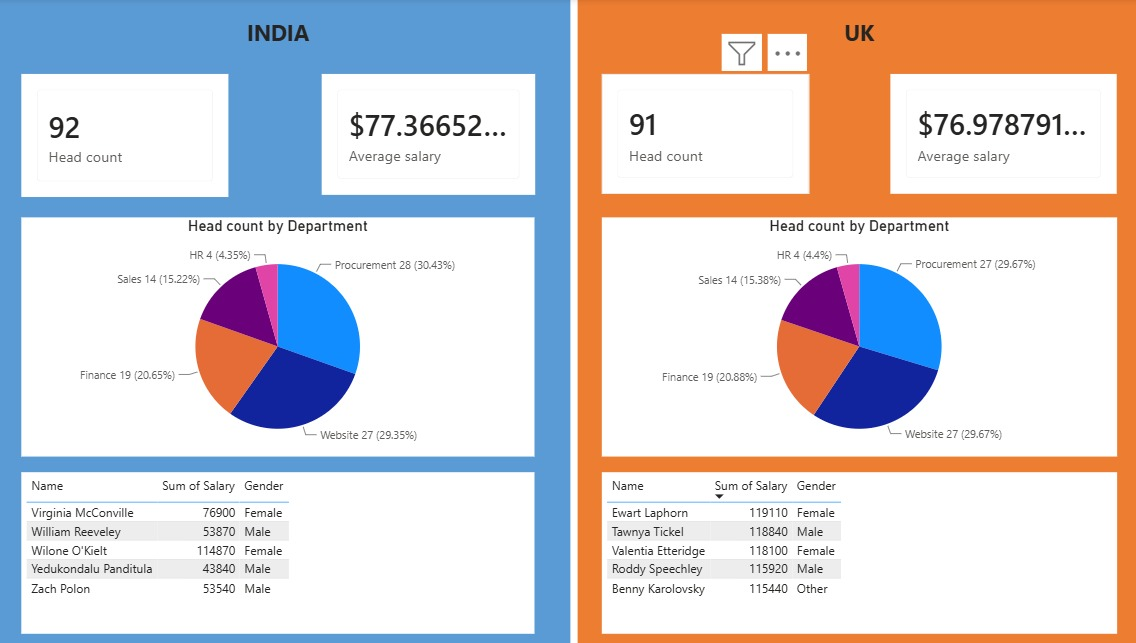

The dashboard page shown, as its layout file describes it:
{"tool":"powerbi","page":{"name":"Q10","canvas":[1280,720],"ordinal":9},"visuals":[{"type":"cardVisual","fields":{"Data":["Sheet1.Head count"]},"box":[28.7,83.6,229.3,136.1],"z":0},{"type":"cardVisual","fields":{"Data":["Sheet1.Head count"]},"box":[670.9,84.1,229.9,132.7],"z":1000},{"type":"cardVisual","fields":{"Data":["Sheet1.Average salary"]},"box":[360.6,83.6,236.4,133.7],"z":2000},{"type":"cardVisual","fields":{"Data":["Sheet1.Average salary"]},"box":[990.4,84.1,250.4,132.7],"z":3000},{"type":"pieChart","fields":{"Category":["Sheet1.Department"],"Y":["Sheet1.Head count"]},"box":[28.7,243.6,568.4,265.1],"z":4000},{"type":"pieChart","fields":{"Category":["Sheet1.Department"],"Y":["Sheet1.Head count"]},"box":[671,243.6,570.7,265.1],"z":5000},{"type":"tableEx","fields":{"Values":["Sheet1.Name","Sum(Sheet1.Salary)","Sheet1.Gender"]},"box":[28.7,525.4,568.4,179.1],"z":6000},{"type":"tableEx","fields":{"Values":["Sheet1.Name","Sum(Sheet1.Salary)","Sheet1.Gender"]},"box":[671,525.4,570.7,179.1],"z":7000},{"type":"textbox","box":[28.7,16.7,568.4,43],"z":8000},{"type":"textbox","box":[670.9,16.8,570,43],"z":9000}]}

Visuals, with their boxes in screenshot pixels (x1, y1, x2, y2), scaled from the page's 1280x720 canvas onto the 1136x643 screenshot:
cardVisual - Sheet1.Head count: pyautogui.locateOnScreen(25, 75, 229, 196)
cardVisual - Sheet1.Head count: pyautogui.locateOnScreen(595, 75, 799, 194)
cardVisual - Sheet1.Average salary: pyautogui.locateOnScreen(320, 75, 530, 194)
cardVisual - Sheet1.Average salary: pyautogui.locateOnScreen(879, 75, 1101, 194)
pieChart - Sheet1.Department x Sheet1.Head count: pyautogui.locateOnScreen(25, 218, 530, 454)
pieChart - Sheet1.Department x Sheet1.Head count: pyautogui.locateOnScreen(596, 218, 1102, 454)
tableEx - Sheet1.Name x Sum(Sheet1.Salary): pyautogui.locateOnScreen(25, 469, 530, 629)
tableEx - Sheet1.Name x Sum(Sheet1.Salary): pyautogui.locateOnScreen(596, 469, 1102, 629)
textbox: pyautogui.locateOnScreen(25, 15, 530, 53)
textbox: pyautogui.locateOnScreen(595, 15, 1101, 53)
